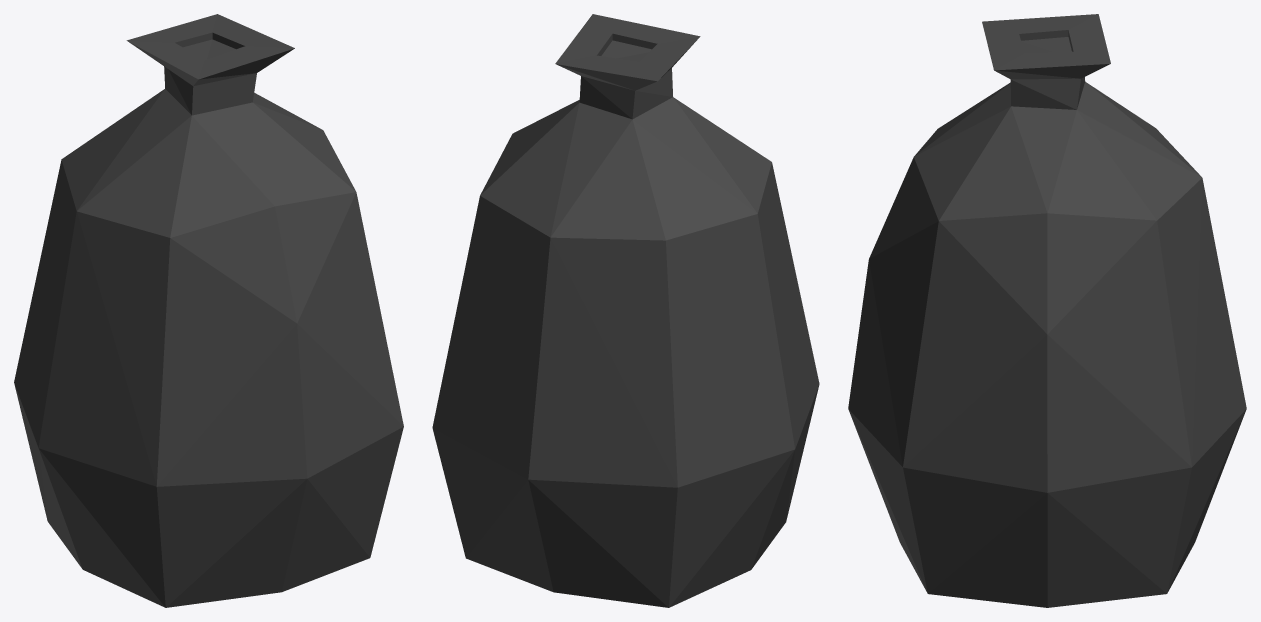
The model's file is Garbage_01.fbx.
3 views of the same model, side by side, from view 1: azimuth 30°, elevation 25°; view 2: azimuth 150°, elevation 25°; view 3: azimuth 270°, elevation 25° (orthographic). The views are drawn at different scales.
Parts seen in each view (by area): view 1: Garbage_01; view 2: Garbage_01; view 3: Garbage_01.
Boxes of the visible parts, box(x1,y1,x2,y2) form: Garbage_01: box(14, 14, 403, 607); Garbage_01: box(432, 14, 819, 607); Garbage_01: box(848, 14, 1246, 607).
Bounding box in the file's own units: 39.48 × 54.93 × 39.48.
